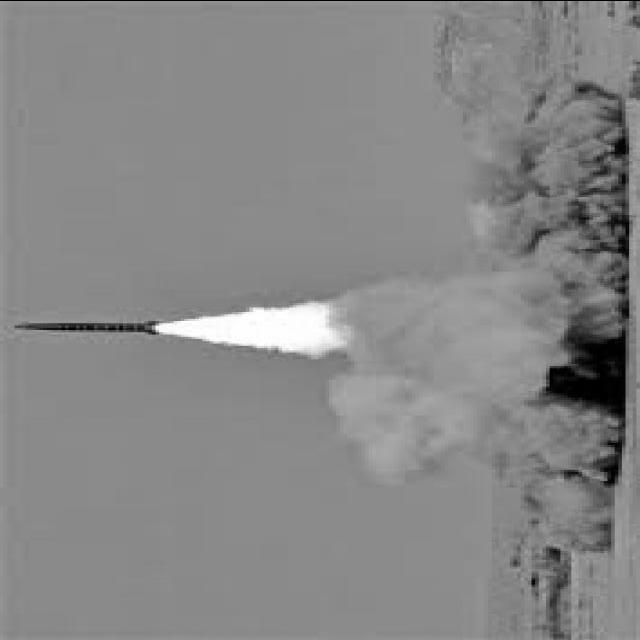missile: (9, 318, 165, 336)
